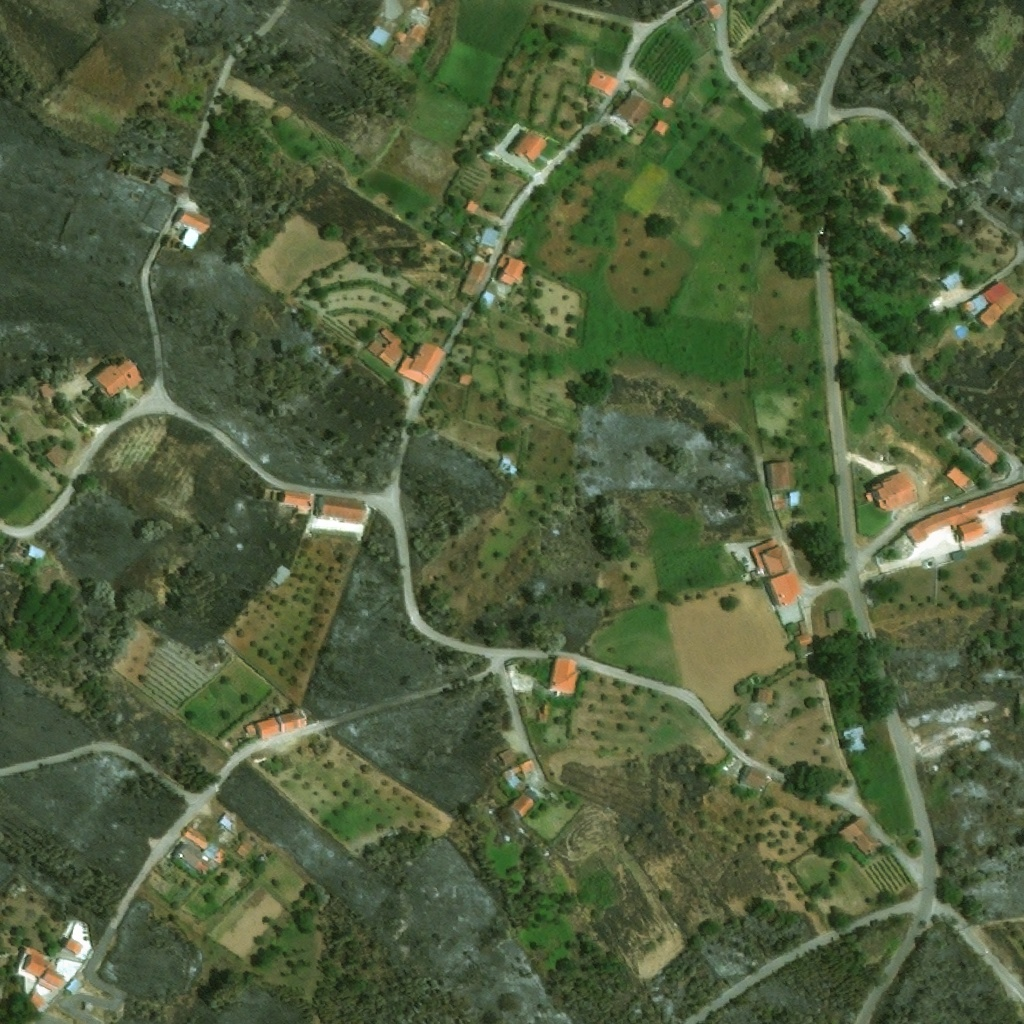0 no-damage: (901, 481, 1023, 544), (958, 280, 1017, 328), (172, 826, 230, 872), (88, 358, 146, 398), (396, 339, 446, 385), (748, 537, 792, 582), (386, 21, 428, 68), (869, 470, 918, 510), (23, 949, 66, 992), (837, 815, 880, 856), (958, 426, 1000, 467), (762, 567, 803, 607), (364, 327, 403, 366), (613, 89, 653, 127), (174, 209, 209, 248), (458, 259, 491, 299), (318, 495, 368, 521), (509, 129, 548, 162), (549, 655, 579, 695), (501, 758, 537, 789), (494, 254, 526, 287), (508, 787, 539, 819), (59, 917, 84, 956), (736, 764, 769, 791), (588, 68, 619, 96), (765, 461, 794, 490), (275, 708, 307, 734), (840, 724, 868, 753), (43, 442, 71, 468), (945, 464, 970, 490), (895, 222, 917, 250), (55, 956, 84, 977), (366, 24, 390, 49), (253, 716, 279, 739), (477, 227, 501, 250), (776, 604, 801, 626), (234, 837, 258, 859), (794, 620, 812, 648), (159, 166, 184, 186), (940, 270, 962, 290), (28, 989, 48, 1011), (270, 565, 292, 585), (700, 0, 723, 19), (497, 457, 519, 476), (218, 812, 235, 832), (65, 977, 84, 993), (477, 290, 494, 307), (497, 748, 515, 764), (40, 382, 58, 398), (653, 119, 669, 136), (825, 611, 841, 628), (754, 687, 772, 702), (537, 704, 550, 723), (771, 494, 785, 511), (463, 199, 478, 214), (244, 722, 257, 739), (458, 373, 471, 386), (788, 492, 799, 506), (949, 551, 966, 560), (909, 76, 921, 87), (662, 97, 673, 108)
2 major-damage: (260, 485, 315, 513)
3 destroyed: (6, 538, 47, 564)
4 un-classified: (414, 0, 432, 13)
